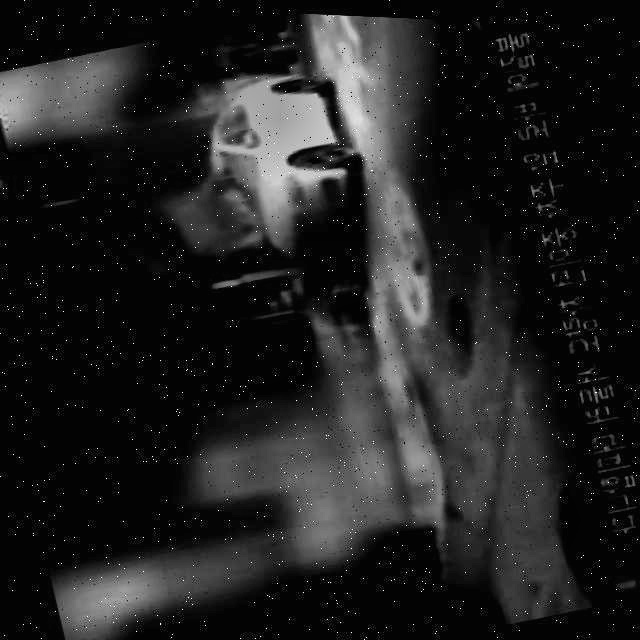Fire: (154, 157, 274, 280)
Smoke: (0, 155, 204, 407)
